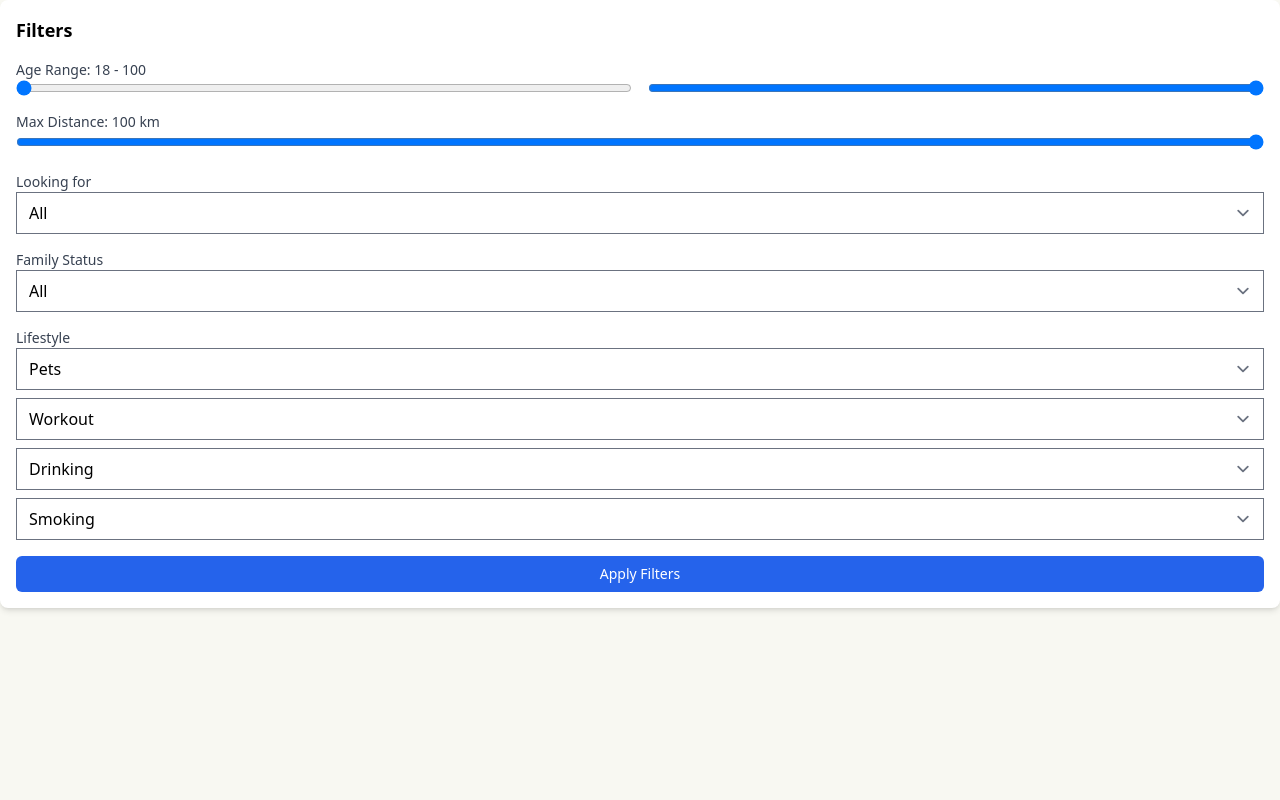
it: Filter component › should not allow minAge to be greater than maxAge
Set the 2nd slider to "30": (744, 88) [648, 80, 1264, 96]
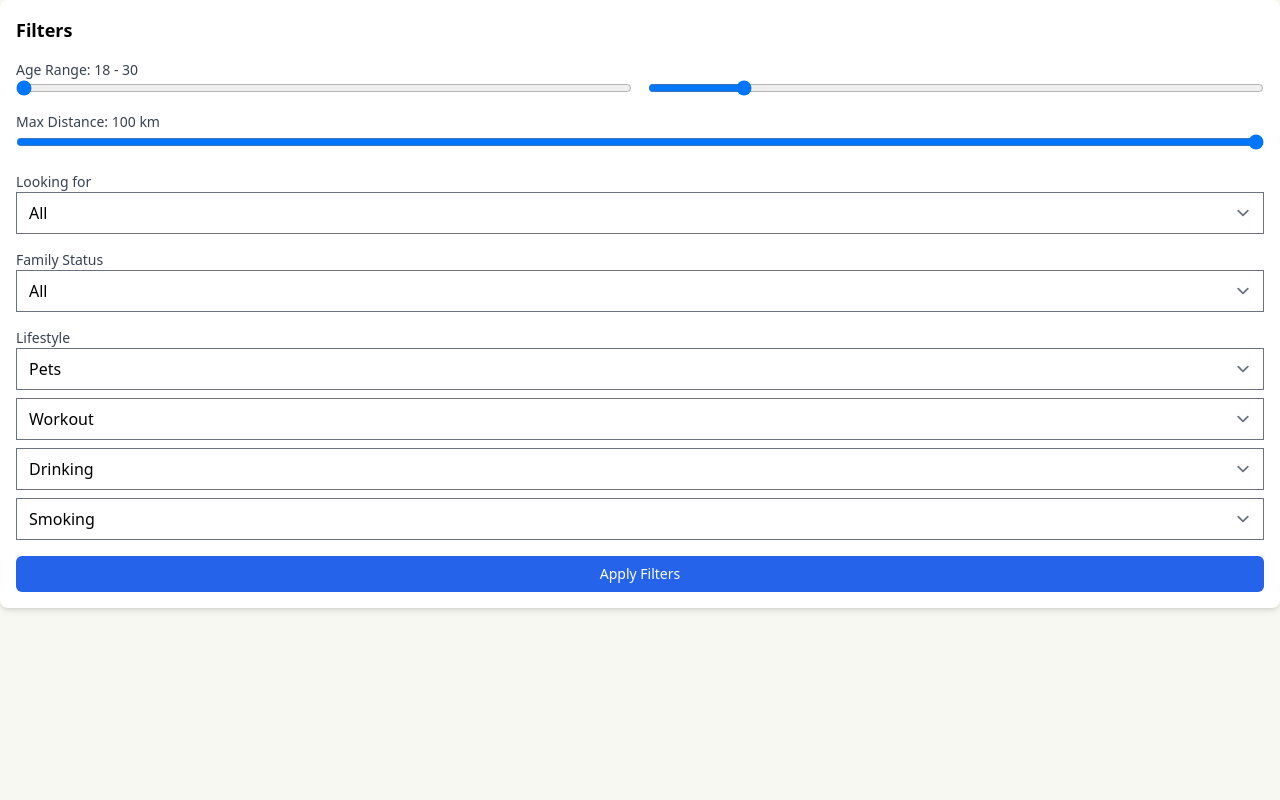
Set the 1st slider to "40": (185, 88) [16, 80, 632, 96]
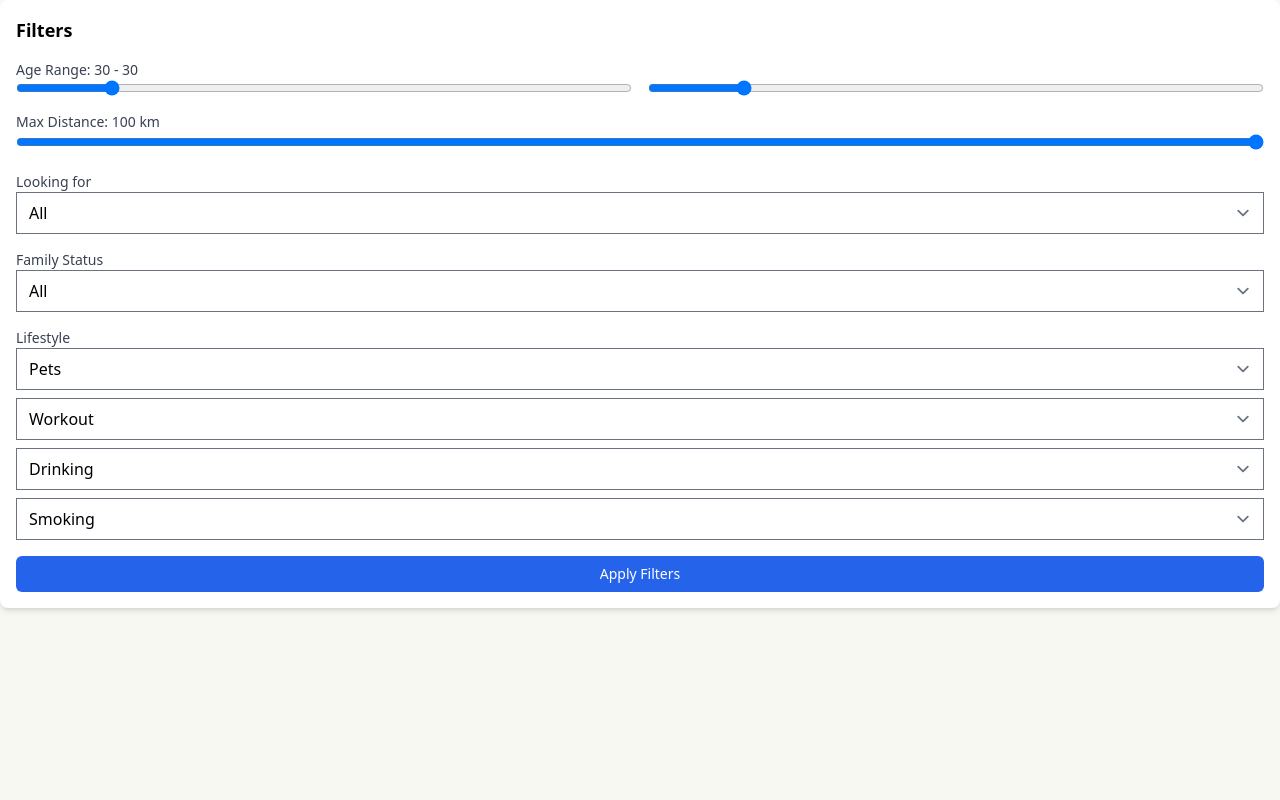
Expected: the text "Age Range: 30 - 30" is shown, [16, 60, 138, 79]
